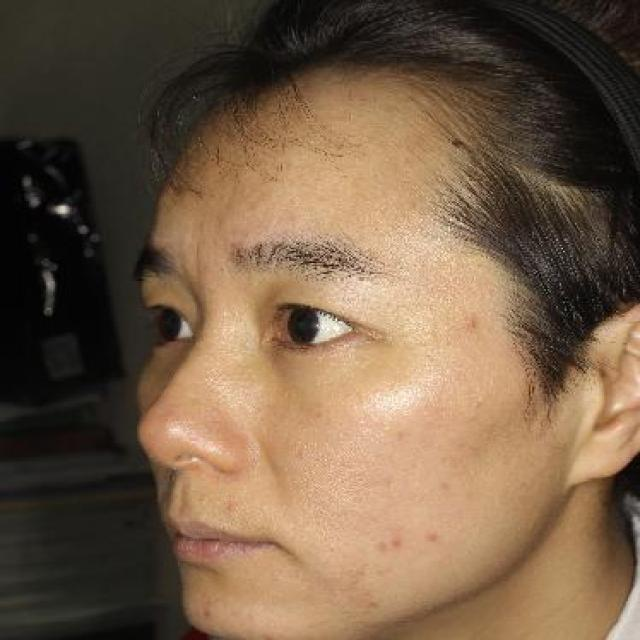dark spot: (423, 528, 445, 543), (371, 540, 390, 557), (390, 534, 406, 549)
whiteheads: (459, 314, 484, 334), (219, 502, 240, 516)
